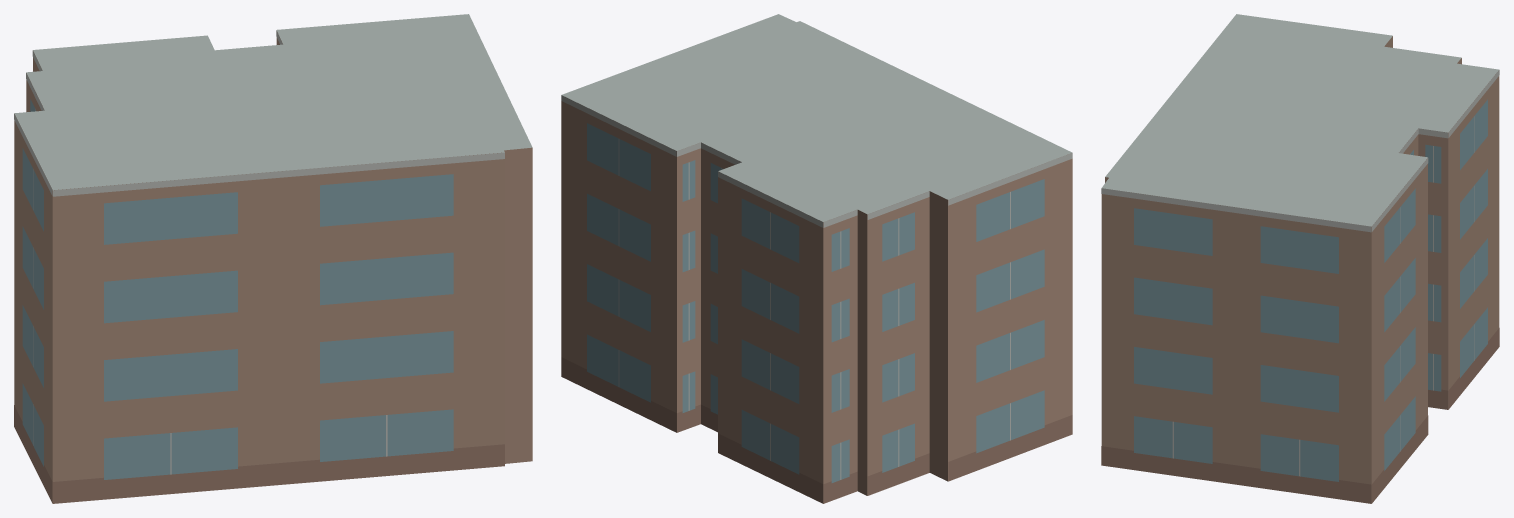
File: survey-upis-32950539.glb
3 views of the same model, side by side, from view 1: azimuth 30°, elevation 25°; view 2: azimuth 150°, elevation 25°; view 3: azimuth 270°, elevation 25° (orthographic). The views are drawn at different scales.
Parts seen in each view (by area): view 1: survey-upis-32950539.tmp; view 2: survey-upis-32950539.tmp; view 3: survey-upis-32950539.tmp.
Boxes of the visible parts, x1,y1,x2,y2 form: survey-upis-32950539.tmp: (14,14,532,503); survey-upis-32950539.tmp: (561,14,1072,503); survey-upis-32950539.tmp: (1101,14,1499,503).
Bounding box in the file's own units: 19.25 × 11.7 × 15.22.
